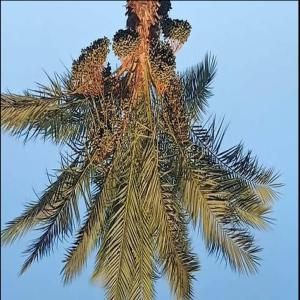palm tree: (0, 0, 285, 299)
